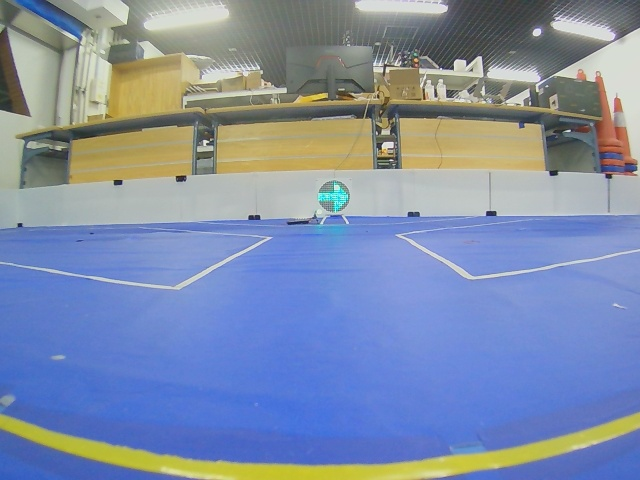right_green: (317, 180, 350, 214)
